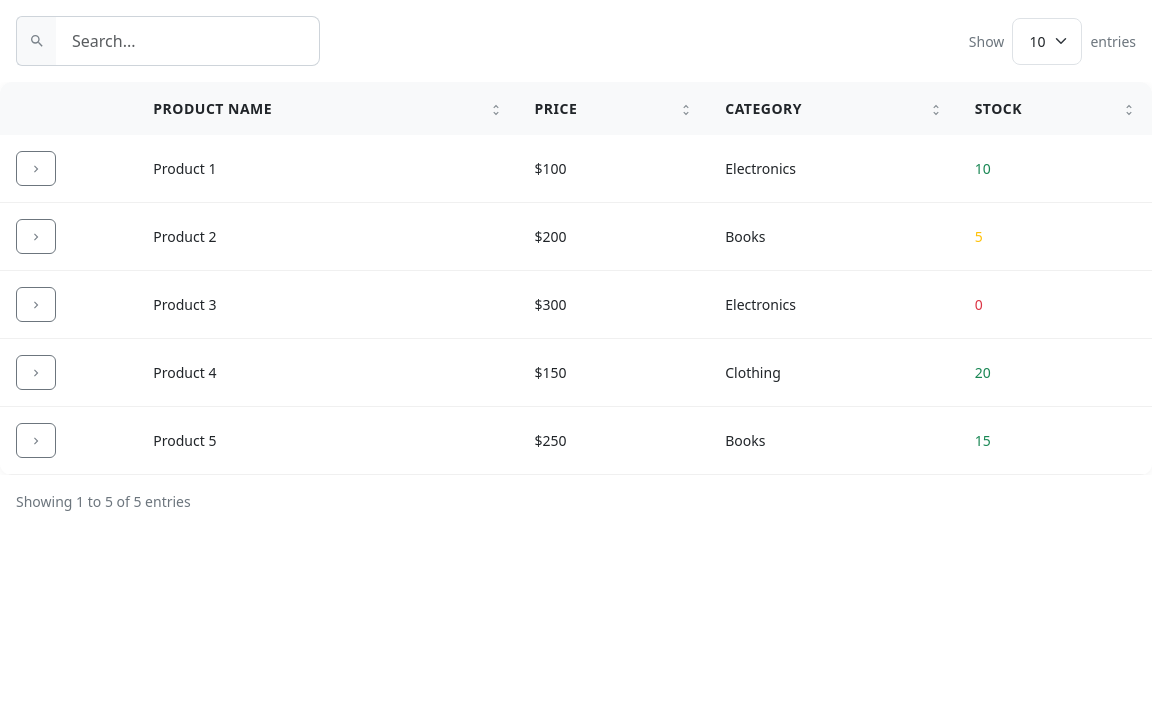
Scenario: DataTable Component › Row Expansion › should expand row when expand button is clicked
Click the button without text next to "Product 1".
click(36, 168)  # box left=16, top=151, right=56, bottom=186
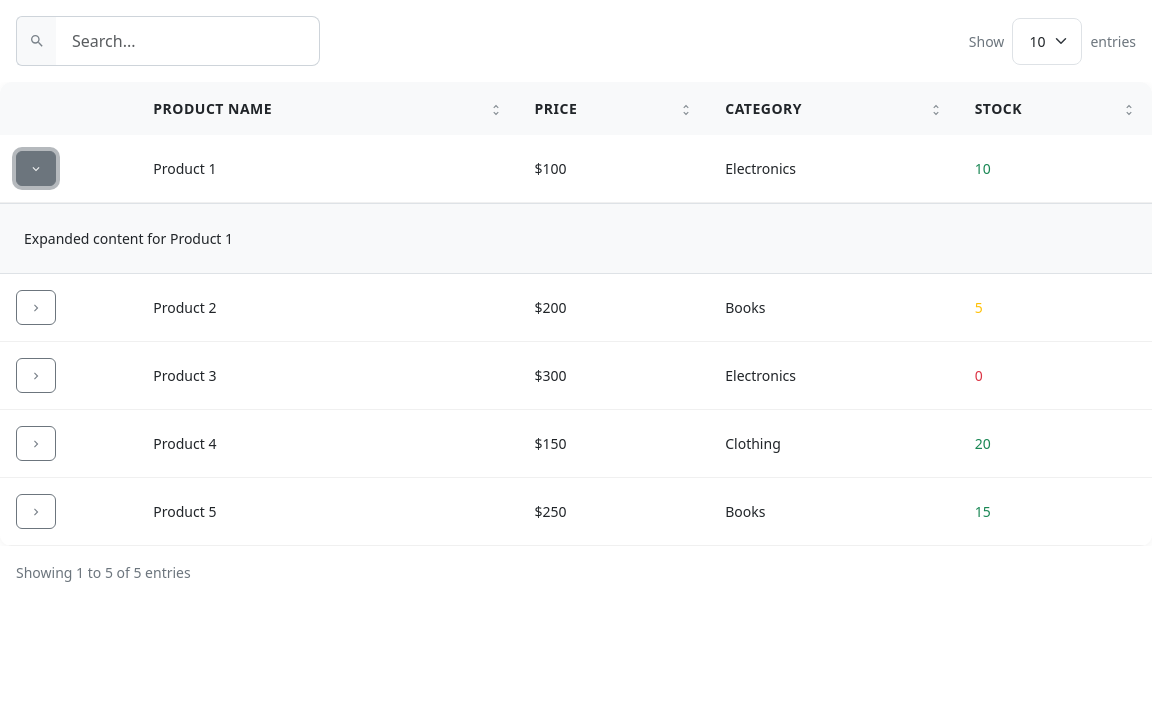
Check: the text "Expanded content for Product 1" is shown, box left=24, top=229, right=233, bottom=248
